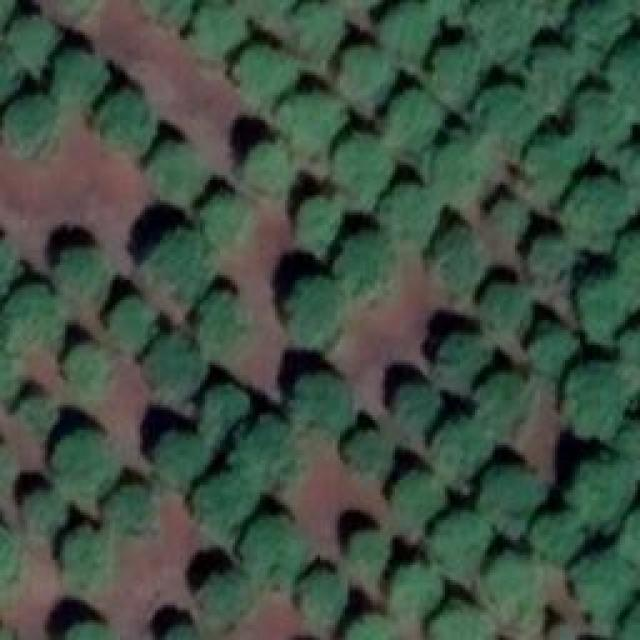Tree: (232, 45, 300, 115), (283, 273, 346, 348), (58, 430, 120, 505), (567, 365, 635, 433), (148, 230, 211, 303), (560, 183, 628, 248), (50, 247, 113, 315), (240, 515, 303, 583), (483, 465, 546, 533), (188, 475, 258, 535), (293, 373, 358, 436), (145, 335, 208, 400), (435, 410, 500, 473), (478, 550, 543, 613), (93, 88, 153, 153), (243, 425, 303, 490), (480, 88, 540, 153), (570, 460, 635, 520), (330, 138, 390, 201), (570, 553, 633, 613), (150, 140, 208, 205), (432, 140, 490, 205), (0, 290, 58, 353), (432, 225, 490, 288), (50, 45, 110, 105), (525, 130, 580, 195), (0, 100, 60, 158), (477, 0, 535, 60), (185, 5, 248, 60), (338, 233, 393, 296), (340, 45, 395, 108), (203, 573, 258, 633), (388, 93, 443, 153), (200, 387, 255, 445), (300, 565, 353, 625), (293, 5, 343, 68), (438, 515, 488, 578), (65, 528, 113, 593), (155, 432, 208, 490), (288, 93, 343, 148), (430, 43, 485, 98), (575, 0, 630, 55), (65, 340, 115, 400), (390, 185, 445, 238), (435, 343, 488, 398), (200, 297, 250, 355), (483, 283, 528, 346), (577, 277, 625, 335), (110, 300, 160, 355), (105, 483, 155, 538), (385, 3, 435, 58), (395, 473, 450, 523), (248, 143, 298, 196), (535, 45, 588, 95), (395, 565, 445, 618), (530, 512, 585, 560), (203, 195, 248, 250), (578, 95, 633, 140), (10, 15, 58, 65), (295, 195, 340, 248), (343, 430, 396, 475), (427, 602, 485, 640), (530, 328, 580, 371), (0, 525, 28, 600), (490, 375, 533, 423), (133, 0, 206, 28), (0, 235, 28, 308), (398, 385, 443, 430), (348, 533, 393, 576), (530, 240, 570, 288), (27, 490, 65, 538), (493, 200, 528, 245), (242, 0, 305, 22), (615, 418, 640, 473), (25, 395, 63, 430), (620, 500, 640, 565), (0, 438, 18, 503), (622, 230, 640, 295), (617, 325, 640, 375), (347, 617, 394, 640), (620, 140, 640, 190), (625, 40, 640, 105), (622, 595, 640, 640), (65, 625, 118, 640), (165, 623, 201, 640), (60, 0, 100, 15)
